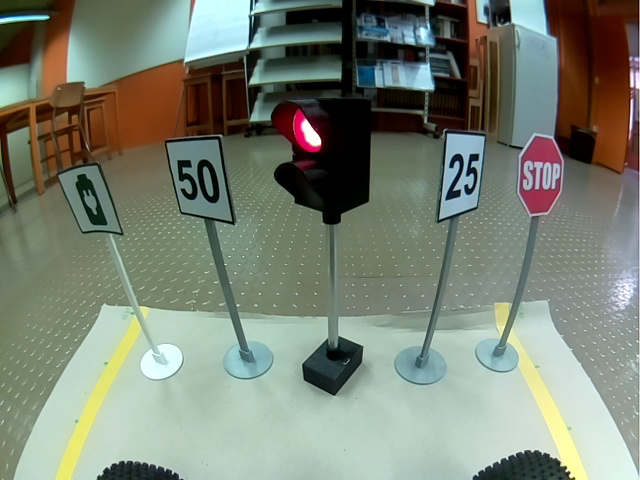battery: (57, 162, 124, 237)
speed25: (436, 128, 486, 223)
speed50: (165, 134, 236, 224)
stop: (516, 132, 564, 217)
trafficLightRed: (270, 97, 372, 214)
